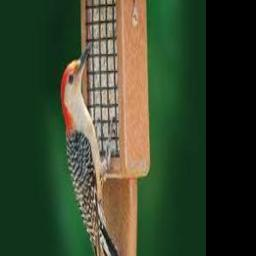Woodpecker: (61, 42, 126, 256)
